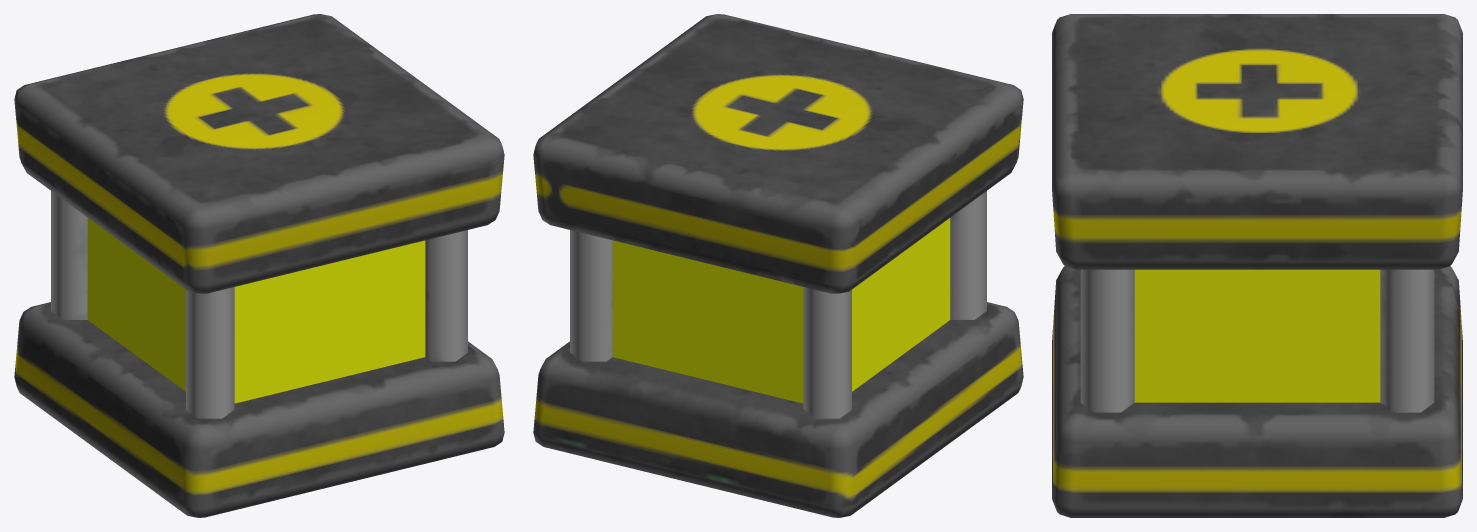
The model's file is Pickup_Yellow.fbx.
3 renders of one model, left to right at view 1: azimuth 30°, elevation 25°; view 2: azimuth 150°, elevation 25°; view 3: azimuth 270°, elevation 25°, orthographic. The views are drawn at different scales.
Parts seen in each view (by area): view 1: PickupD; view 2: PickupD; view 3: PickupD.
Boxes of the visible parts, x1=… form: PickupD: x1=14, y1=14, x2=504, y2=517; PickupD: x1=533, y1=14, x2=1023, y2=517; PickupD: x1=1052, y1=14, x2=1462, y2=517.
Size of the model in its own units: 56.04 by 56.04 by 51.91.
Materials: 1 (1 with a texture image).
